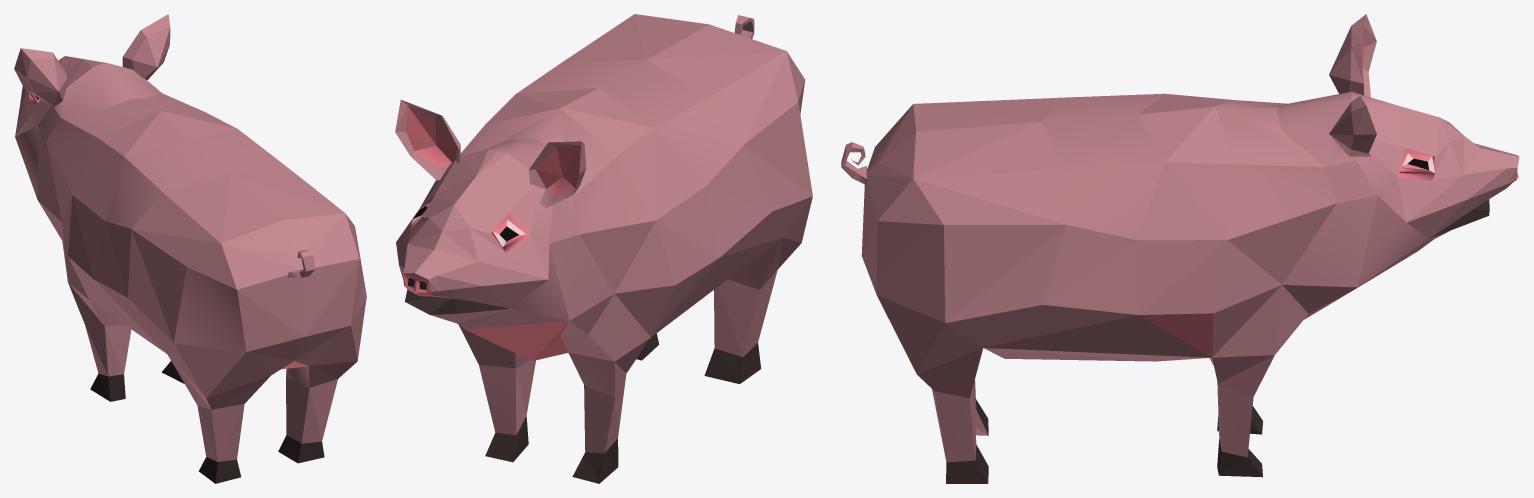
File: Schwein_Schwatzwutz.FBX
The picture shows the model from 3 angles, left to right: view 1: azimuth 30°, elevation 25°; view 2: azimuth 150°, elevation 25°; view 3: azimuth 270°, elevation 25°; orthographic projection. The views are drawn at different scales.
Visible parts, largest first — view 1: Schwein_Koerper; view 2: Schwein_Koerper; view 3: Schwein_Koerper.
Part boxes in pixels (x1=…): Schwein_Koerper: x1=14, y1=14, x2=366, y2=483; Schwein_Koerper: x1=395, y1=14, x2=812, y2=483; Schwein_Koerper: x1=841, y1=14, x2=1519, y2=483.
Bounding box in the file's own units: 8.34 × 12.28 × 19.33.
